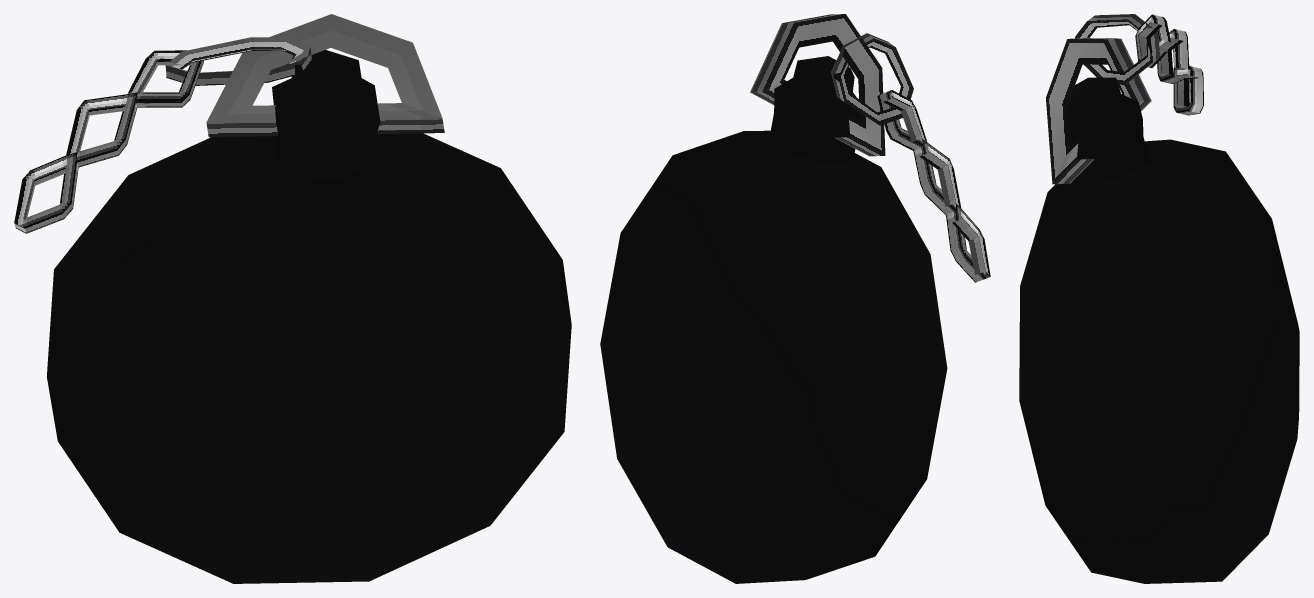
The model's file is ps2_save-icons_fullmetalalchemistdreamcarnival.glb.
The picture shows the model from 3 angles, left to right: view 1: azimuth 30°, elevation 25°; view 2: azimuth 150°, elevation 25°; view 3: azimuth 270°, elevation 25°; orthographic projection. The views are drawn at different scales.
Parts seen in each view (by area): view 1: hagane.ico; view 2: hagane.ico; view 3: hagane.ico.
Part boxes in pixels (x1=…): hagane.ico: x1=14, y1=14, x2=571, y2=583; hagane.ico: x1=600, y1=14, x2=990, y2=583; hagane.ico: x1=1019, y1=14, x2=1299, y2=583.
Size of the model in its own units: 4.1 by 4.8 by 2.37.
1 material, 1 textured.
